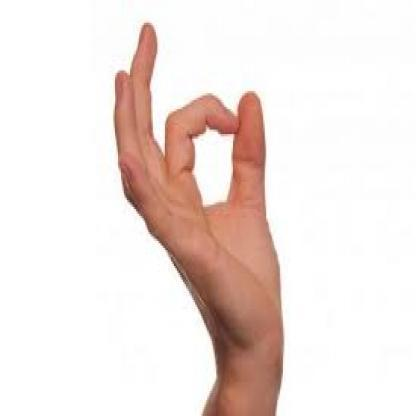ok: (111, 19, 290, 372)
